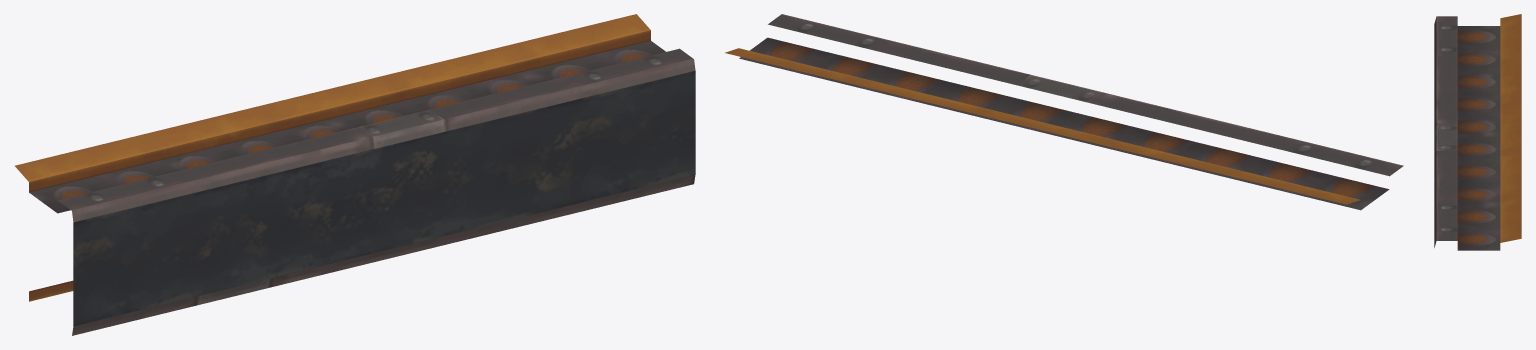
Rendered from conveyor_x5_01.glb.
3 views of the same model, side by side, from view 1: azimuth 30°, elevation 25°; view 2: azimuth 150°, elevation 25°; view 3: azimuth 270°, elevation 25° (orthographic). The views are drawn at different scales.
Visible parts, largest first — view 1: factory.conveyor_x5_01-MeshNodes["belt_on"], factory.conveyor_x5_01-MeshNodes["conveyor_base"]; view 2: factory.conveyor_x5_01-MeshNodes["conveyor_base"]; view 3: factory.conveyor_x5_01-MeshNodes["conveyor_base"].
Part boxes in pixels (box(x1,y1,x2,y2)): factory.conveyor_x5_01-MeshNodes["belt_on"]: box(73, 70, 695, 326); factory.conveyor_x5_01-MeshNodes["conveyor_base"]: box(15, 14, 695, 335); factory.conveyor_x5_01-MeshNodes["conveyor_base"]: box(725, 14, 1403, 210); factory.conveyor_x5_01-MeshNodes["conveyor_base"]: box(1434, 14, 1521, 250).
Size of the model in its own units: 5 by 1.01 by 0.82.
Materials: 2 (2 with a texture image).
